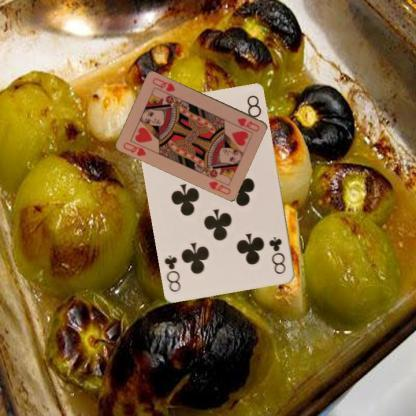8c: (266, 234, 288, 276)
Qh: (121, 140, 148, 158), (235, 115, 260, 133)
